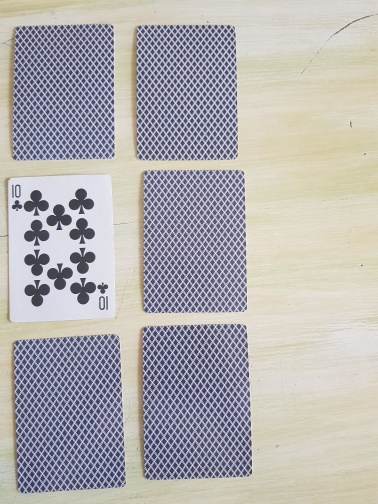ten: (7, 174, 117, 323)
